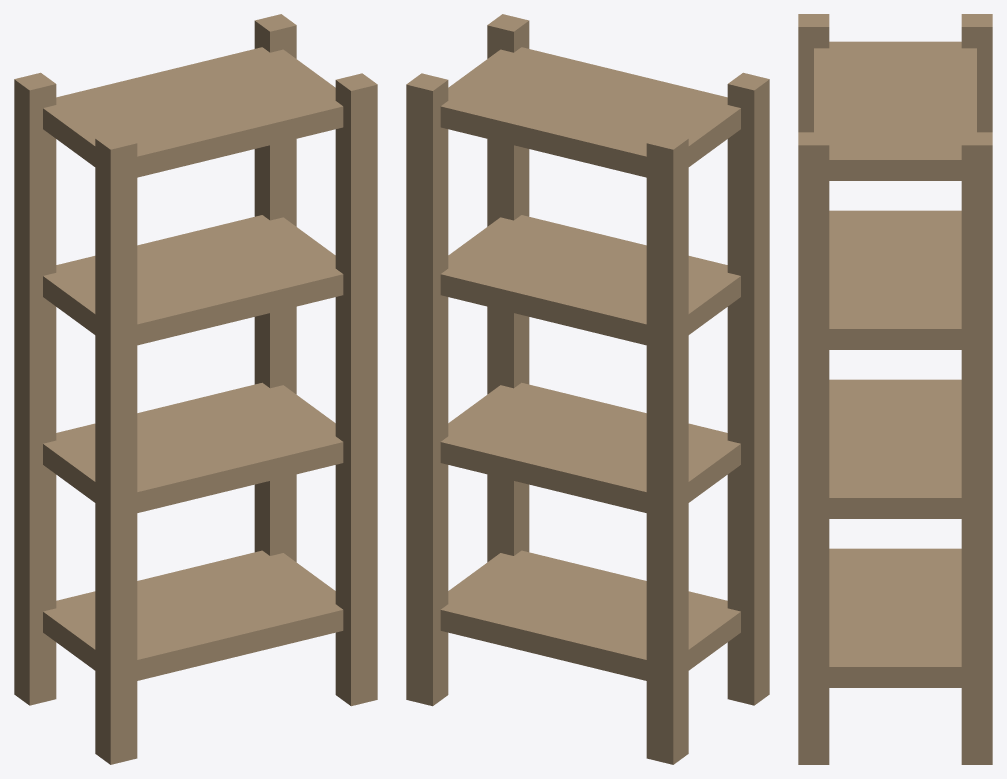
The model's file is bookcaseOpen.glb.
3 views of the same model, side by side, from view 1: azimuth 30°, elevation 25°; view 2: azimuth 150°, elevation 25°; view 3: azimuth 270°, elevation 25° (orthographic).
Parts seen in each view (by area): view 1: bookcaseOpen(Clone); view 2: bookcaseOpen(Clone); view 3: bookcaseOpen(Clone).
Boxes of the visible parts, x1,y1,x2,y2 form: bookcaseOpen(Clone): [14, 14, 377, 764]; bookcaseOpen(Clone): [406, 14, 769, 764]; bookcaseOpen(Clone): [798, 14, 992, 764].
Size of the model in its own units: 0.4 by 0.88 by 0.25.
